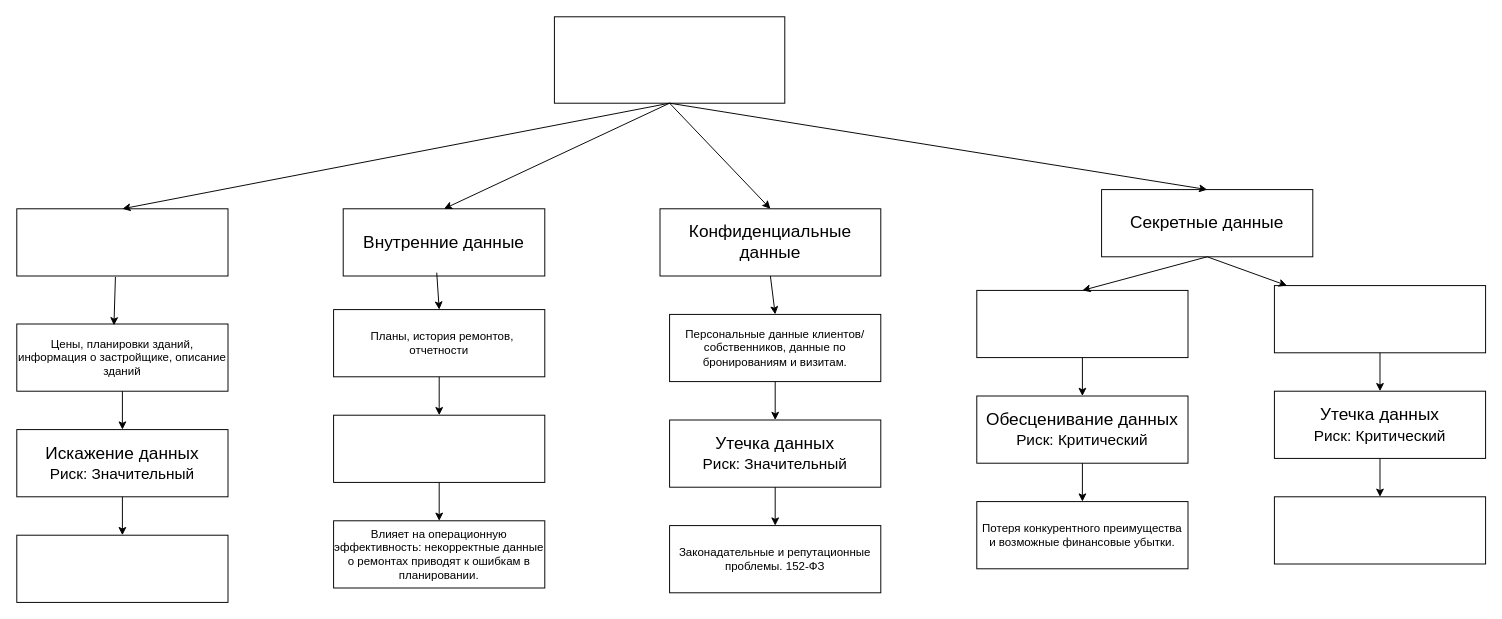
Some shapes in this 1502 by 619 pixel diagram are drawn without their labels. Each missing label, with the box of its shape:
Безопасность данных: (553, 16, 785, 103)
Ключи, токены, учетные данные, данные умного дома.: (1273, 285, 1486, 353)
Коммерческая тайна: (976, 289, 1188, 358)
Компрометация даёт злоумышленнику доступ к сервисам и управление умным домом.: (1273, 496, 1486, 564)
Некачественные данных Риск: Значительный: (333, 414, 545, 482)
Публичные данные: (16, 208, 228, 276)
Репутационные и юридические риски при продаже: (16, 534, 228, 602)
